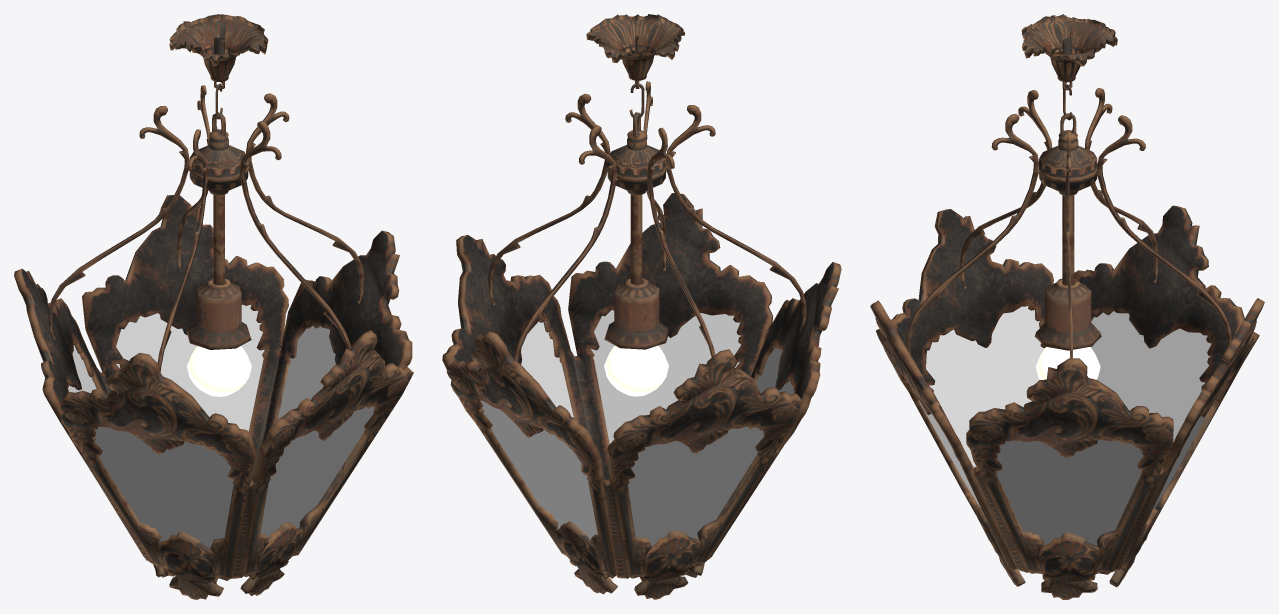
The model's file is lantern_chandelier_01_4k.fbx.
3 renders of one model, left to right at view 1: azimuth 30°, elevation 25°; view 2: azimuth 150°, elevation 25°; view 3: azimuth 270°, elevation 25°, orthographic.
Visible parts, largest first — view 1: lantern_chandelier_01; view 2: lantern_chandelier_01; view 3: lantern_chandelier_01.
Boxes of the visible parts, bbox=[...] form: lantern_chandelier_01: bbox=[14, 14, 413, 599]; lantern_chandelier_01: bbox=[442, 14, 841, 599]; lantern_chandelier_01: bbox=[870, 14, 1264, 599].
Size of the model in its own units: 57.92 by 87.76 by 57.46.
Materials: 3 (1 with a texture image).
